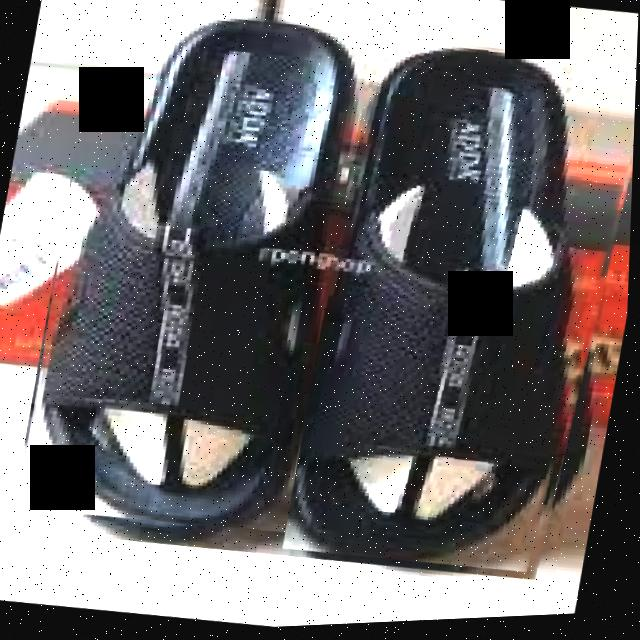shoe: (11, 0, 640, 608), (16, 0, 383, 548), (285, 25, 639, 591)
